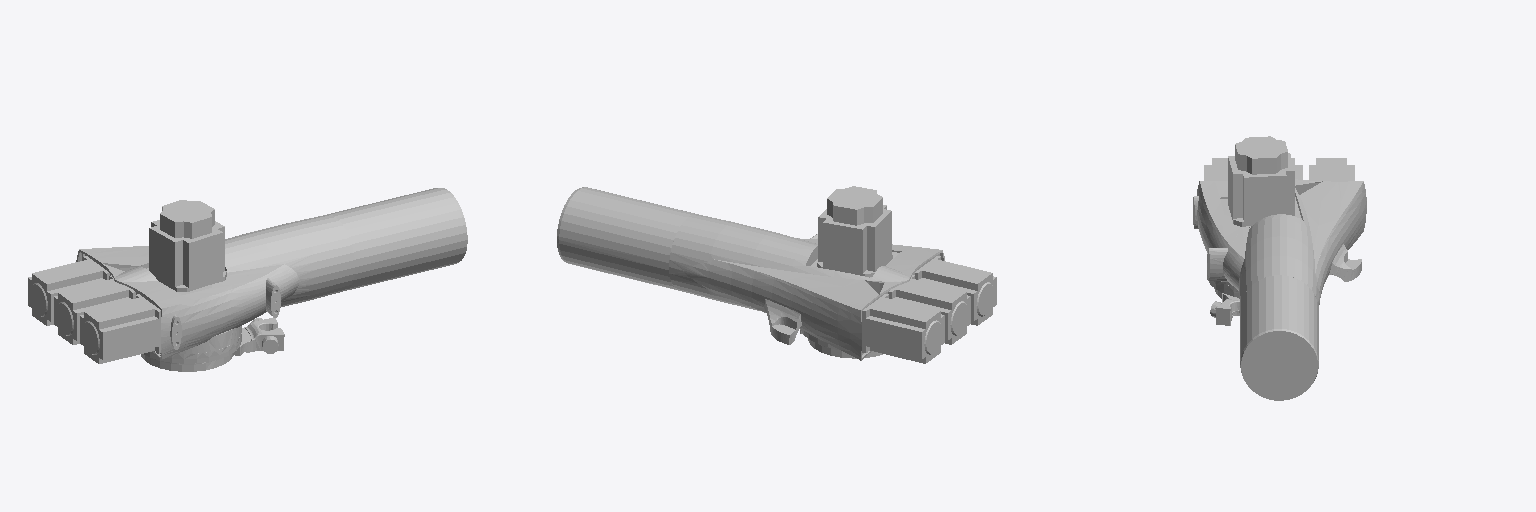
Rendered from kuka_arm_link_3_collisions_mesh.obj.
3 renders of one model, left to right at view 1: azimuth 30°, elevation 25°; view 2: azimuth 150°, elevation 25°; view 3: azimuth 270°, elevation 25°, orthographic.
Size of the model in its own units: 1.36 by 0.477 by 0.5336.